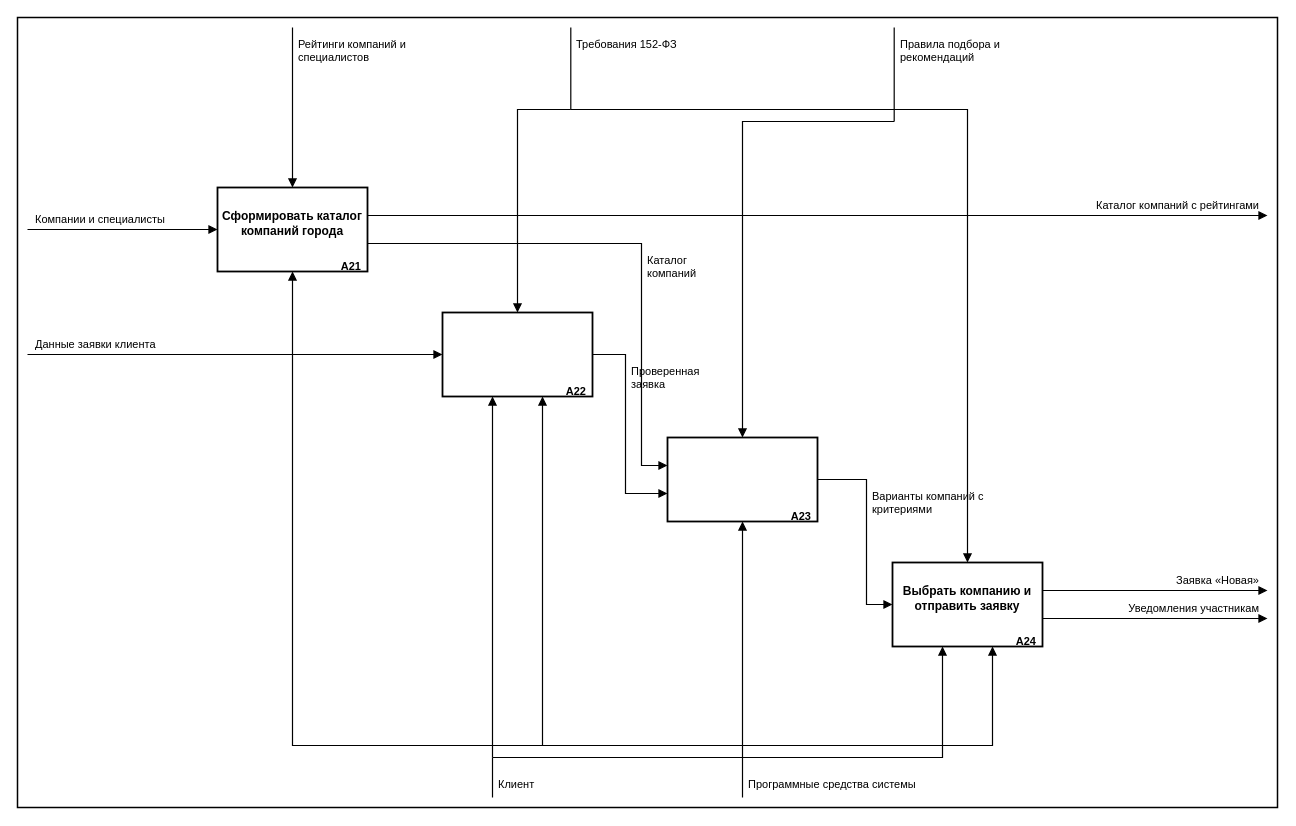
This 1296x826 diagram has some shape labels left out. The shapes that lost their labels are listed below. From the top down, each one's box as (x1, y1, x2, y2) in pixels, then its label:
(441, 311, 593, 397): Проверить данные заявки
(666, 436, 818, 522): Сформировать варианты выбора компании
